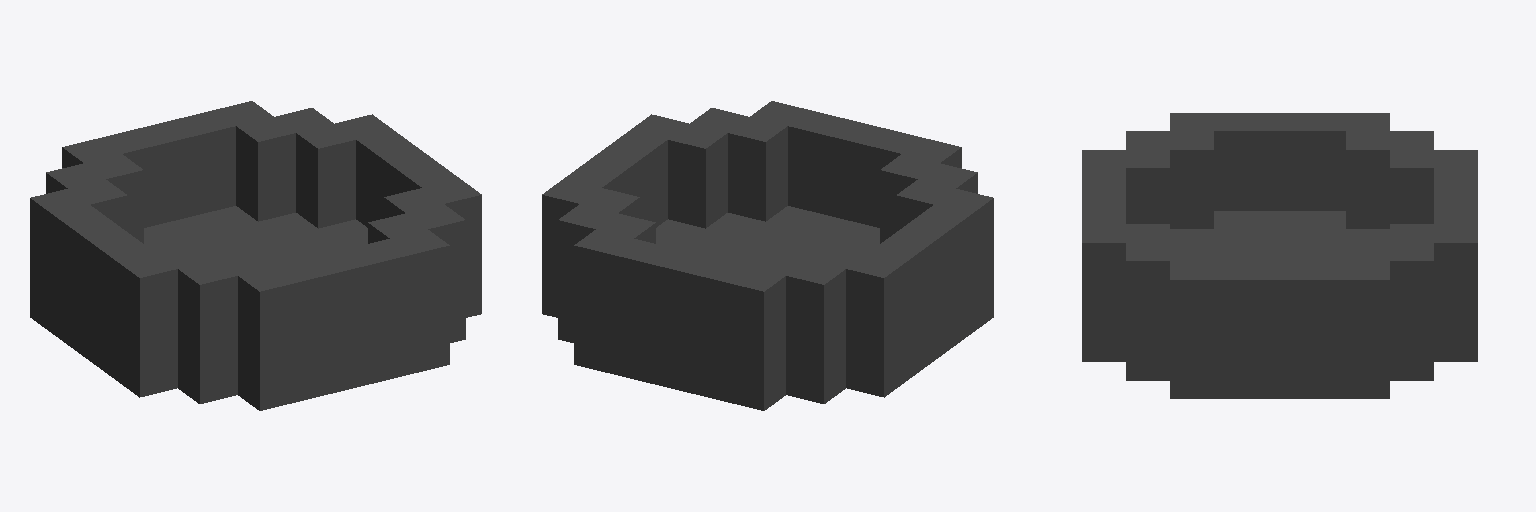
3 views of the same model, side by side, from view 1: azimuth 30°, elevation 25°; view 2: azimuth 150°, elevation 25°; view 3: azimuth 270°, elevation 25° (orthographic).
Parts seen in each view (by area): view 1: Matrix; view 2: Matrix; view 3: Matrix.
Boxes of the visible parts, <box> form: Matrix: <box>30,101,481,410</box>; Matrix: <box>542,101,993,410</box>; Matrix: <box>1082,113,1477,398</box>.
Bounding box in the file's own units: 9 × 3 × 9.
1 materials, 1 textured.